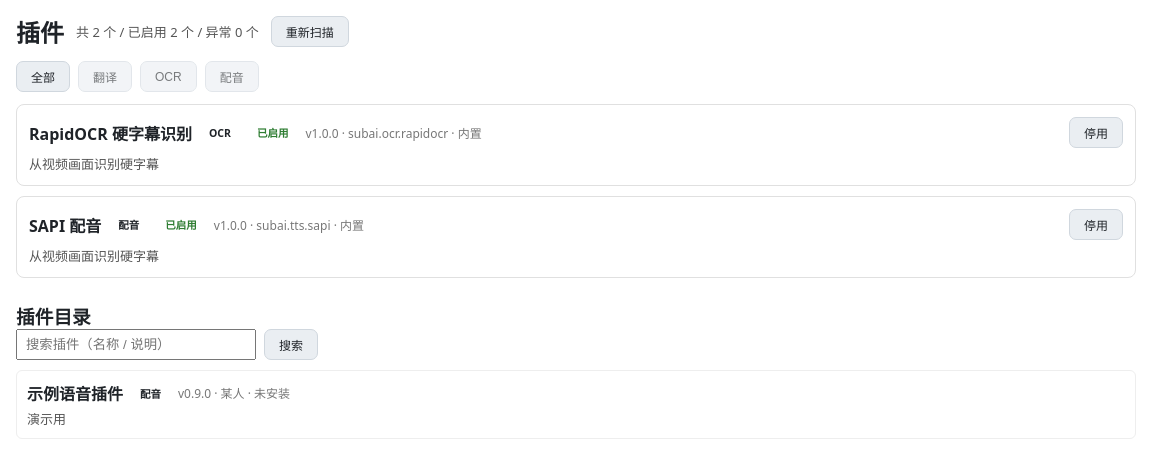
Test: PluginsPage › 分类筛选只显示对应类型
Check: the text "RapidOCR 硬字幕识别" is shown, box [29,120,192,144]
What coordinates should you click on to do the following:
click the button "配音"
I would click on:
 (232, 76)
Its box is [205,61,259,92].
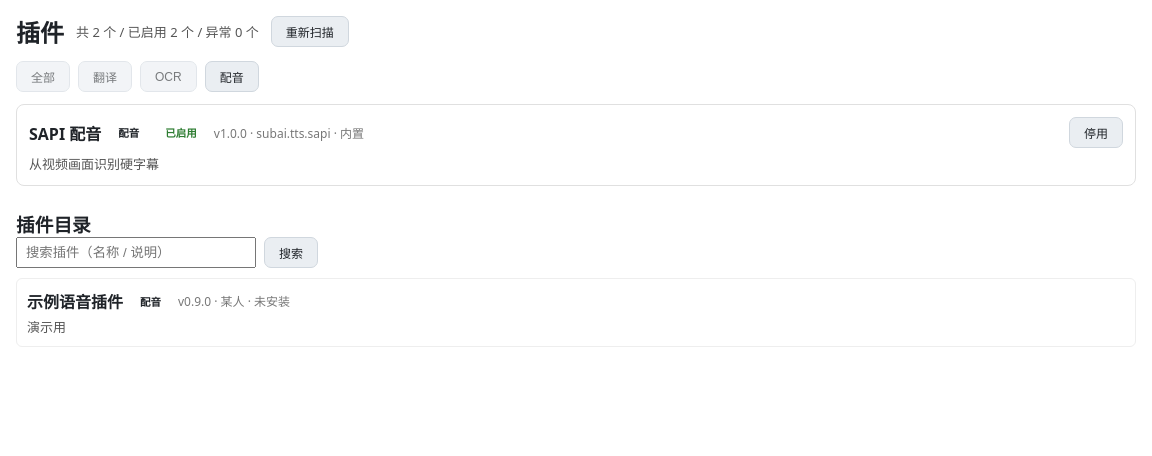
Check: the text "SAPI 配音" is shown, box [29,120,101,144]
Check: the text "RapidOCR 硬字幕识别" is gone
